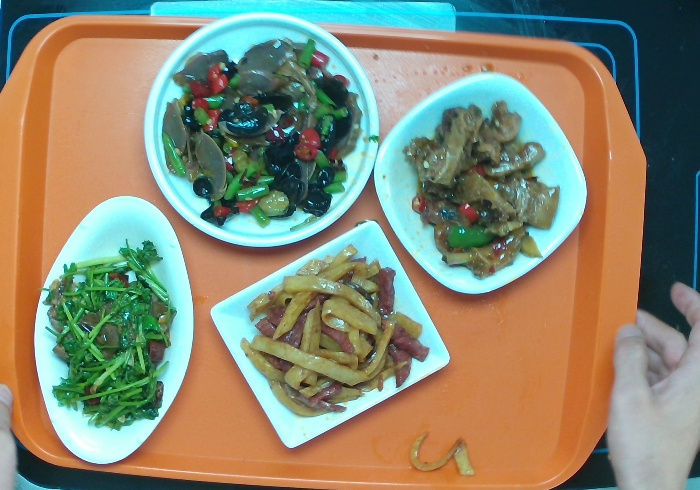HZYJPL-Si_Fang_Die: (209, 222, 449, 455)
HZYJPL-Si_Fang_Yuan_Die: (374, 73, 590, 301)
HZYJPL-Xiao_Yu_Die: (33, 192, 196, 465)
HZYJPL-Xiao_Yuan_Die: (141, 9, 376, 249)
